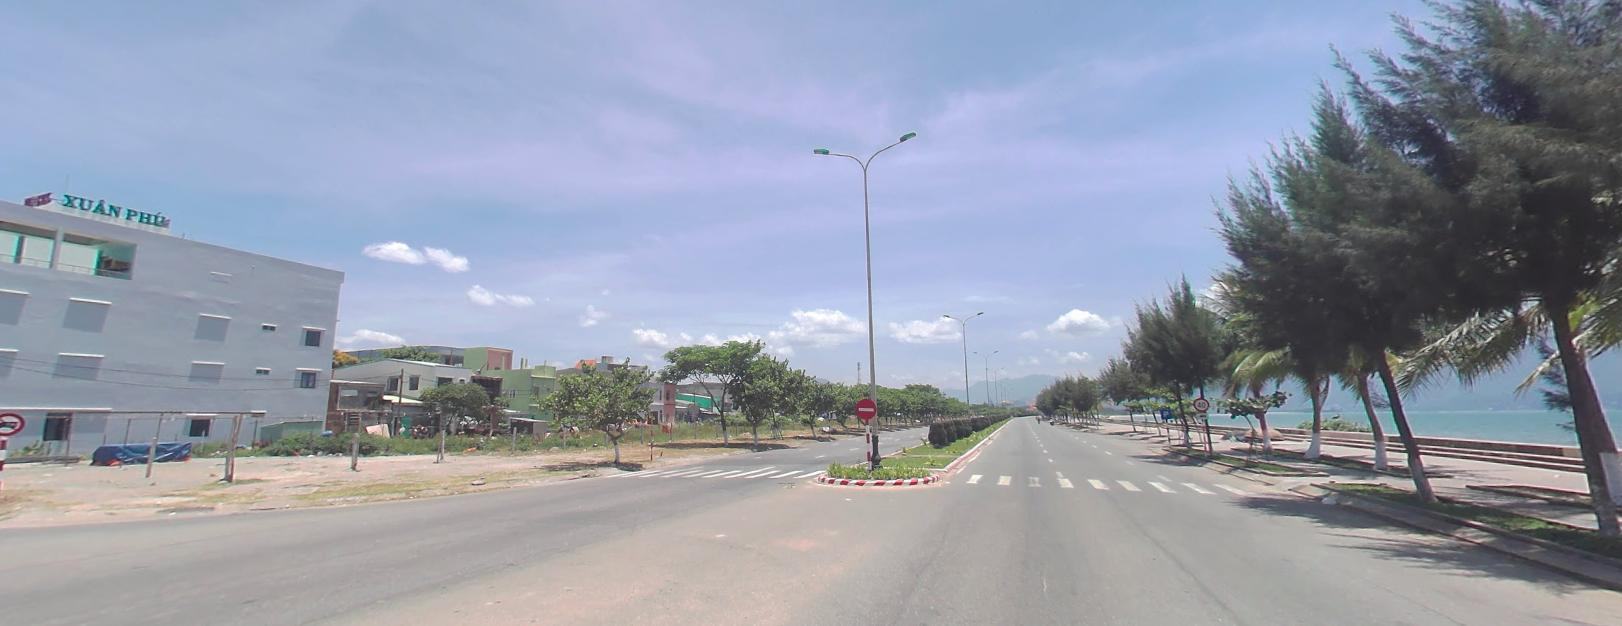Cam con lai: (0, 410, 26, 434), (0, 411, 23, 434)
Cam nguoc chieu: (855, 396, 876, 417), (855, 397, 875, 418)
Gioi han toc do: (1193, 395, 1209, 410), (1193, 396, 1208, 409)
